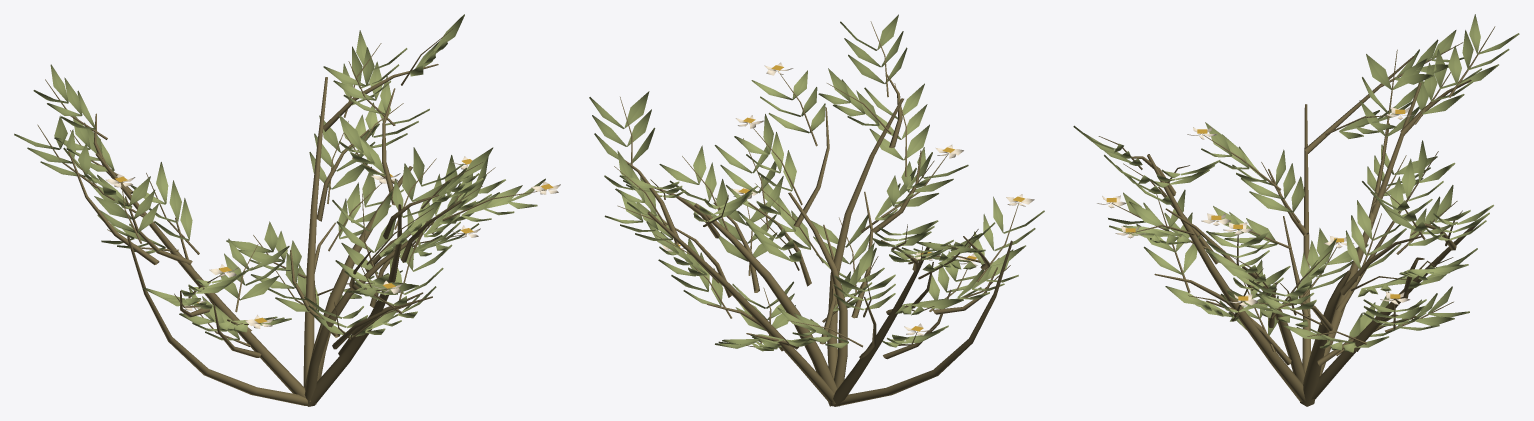
File: Ciste_1_Low.fbx
3 renders of one model, left to right at view 1: azimuth 30°, elevation 25°; view 2: azimuth 150°, elevation 25°; view 3: azimuth 270°, elevation 25°, orthographic. The views are drawn at different scales.
Visible parts, largest first — view 1: Ciste_1_Low; view 2: Ciste_1_Low; view 3: Ciste_1_Low.
Boxes of the visible parts, x1,y1,x2,y2 form: Ciste_1_Low: (14,14,560,406); Ciste_1_Low: (589,14,1044,406); Ciste_1_Low: (1073,14,1519,406).
Bounding box in the file's own units: 117 × 80.61 × 107.
